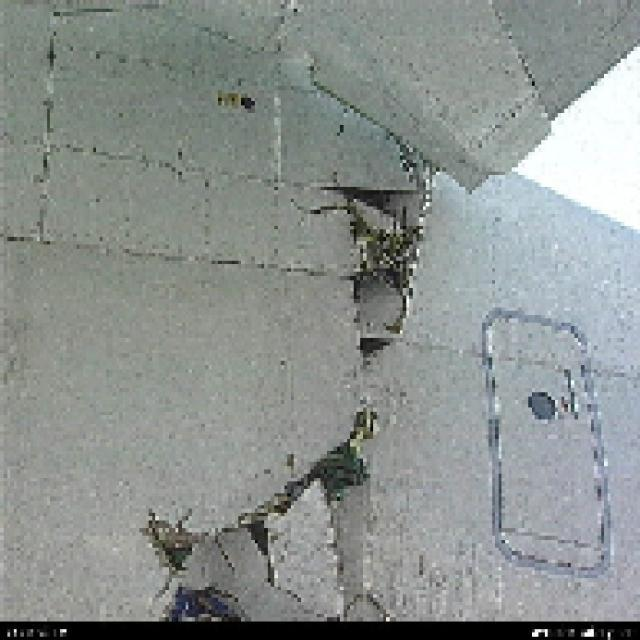crack: (136, 130, 443, 612)
